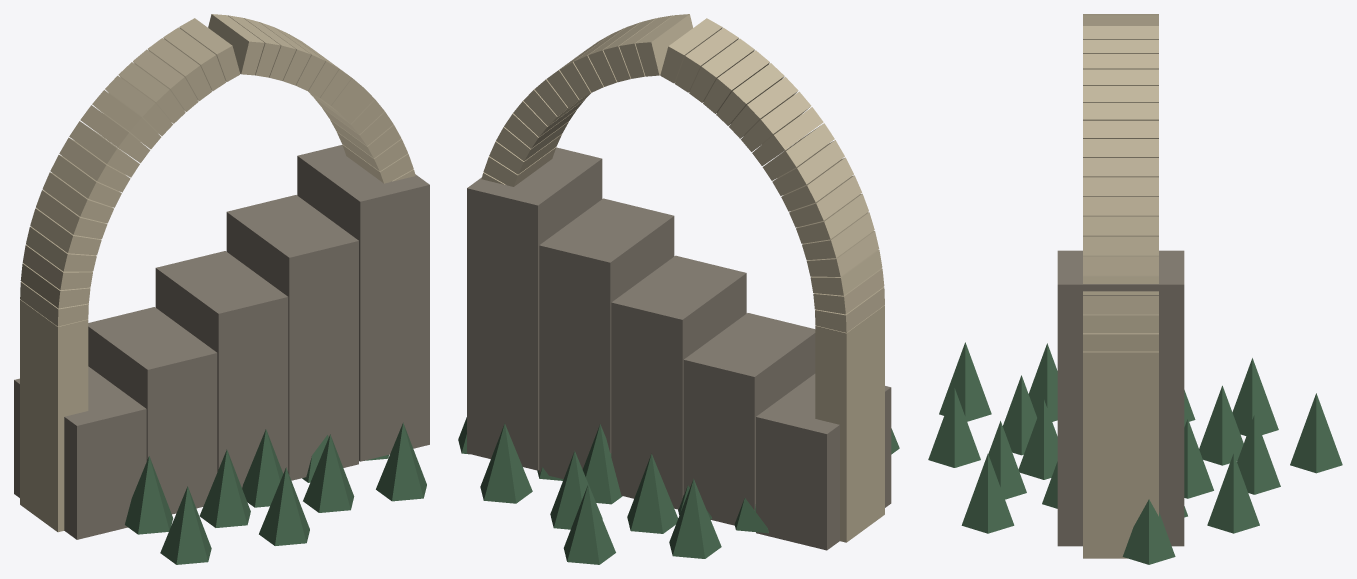
Rendered from HeartIvyRuin_LOD0.fbx.
The picture shows the model from 3 angles, left to right: view 1: azimuth 30°, elevation 25°; view 2: azimuth 150°, elevation 25°; view 3: azimuth 270°, elevation 25°; orthographic projection. The views are drawn at different scales.
Visible parts, largest first — view 1: HeartIvyRuin_LOD0; view 2: HeartIvyRuin_LOD0; view 3: HeartIvyRuin_LOD0.
Boxes of the visible parts, x1,y1,x2,y2 form: HeartIvyRuin_LOD0: [14, 14, 429, 564]; HeartIvyRuin_LOD0: [458, 14, 899, 564]; HeartIvyRuin_LOD0: [928, 14, 1342, 564].
Bounding box in the file's own units: 354 × 389 × 328.
